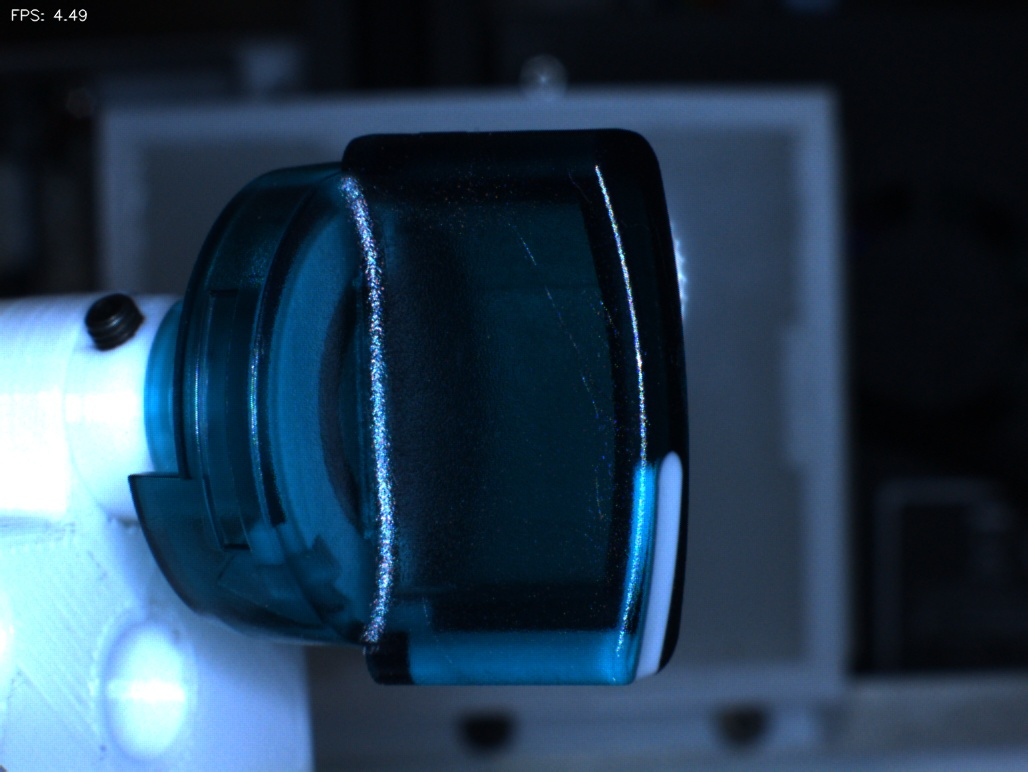Givrage: (516, 221, 633, 468)
